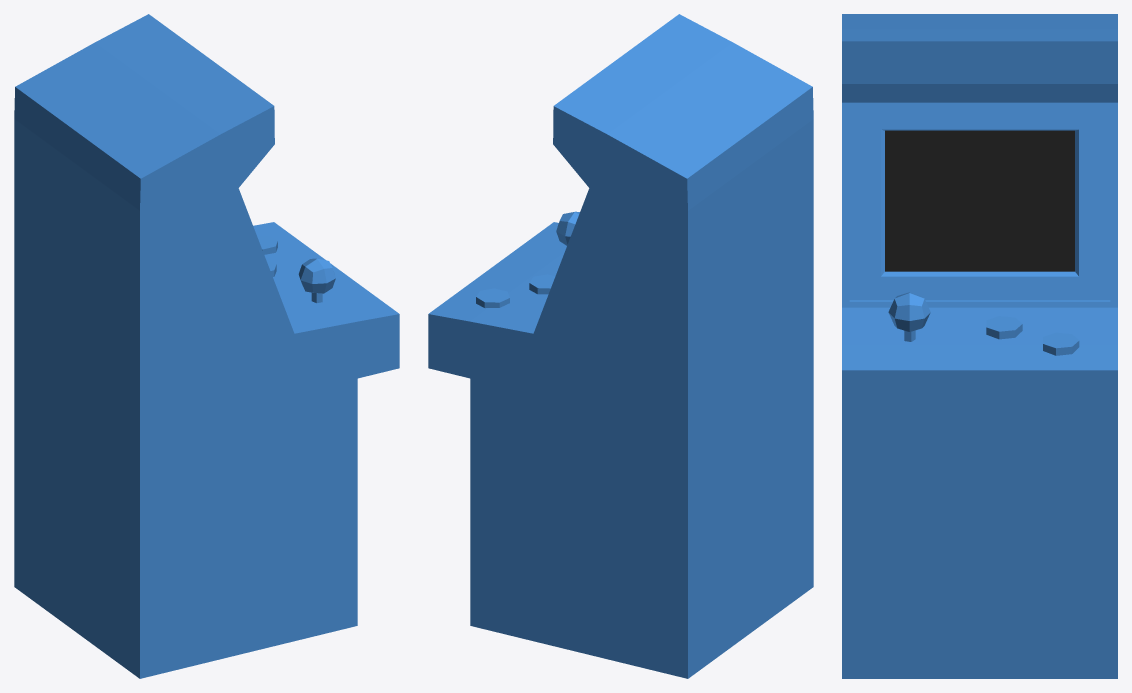
File: Arcade machine.fbx
3 views of the same model, side by side, from view 1: azimuth 30°, elevation 25°; view 2: azimuth 150°, elevation 25°; view 3: azimuth 270°, elevation 25° (orthographic). The views are drawn at different scales.
Visible parts, largest first — view 1: Arcade machine.074; view 2: Arcade machine.074; view 3: Arcade machine.074.
Boxes of the visible parts, x1=… form: Arcade machine.074: x1=14, y1=14, x2=399, y2=678; Arcade machine.074: x1=428, y1=14, x2=813, y2=678; Arcade machine.074: x1=842, y1=14, x2=1117, y2=678.
Bounding box in the file's own units: 76 × 180 × 90.7.
